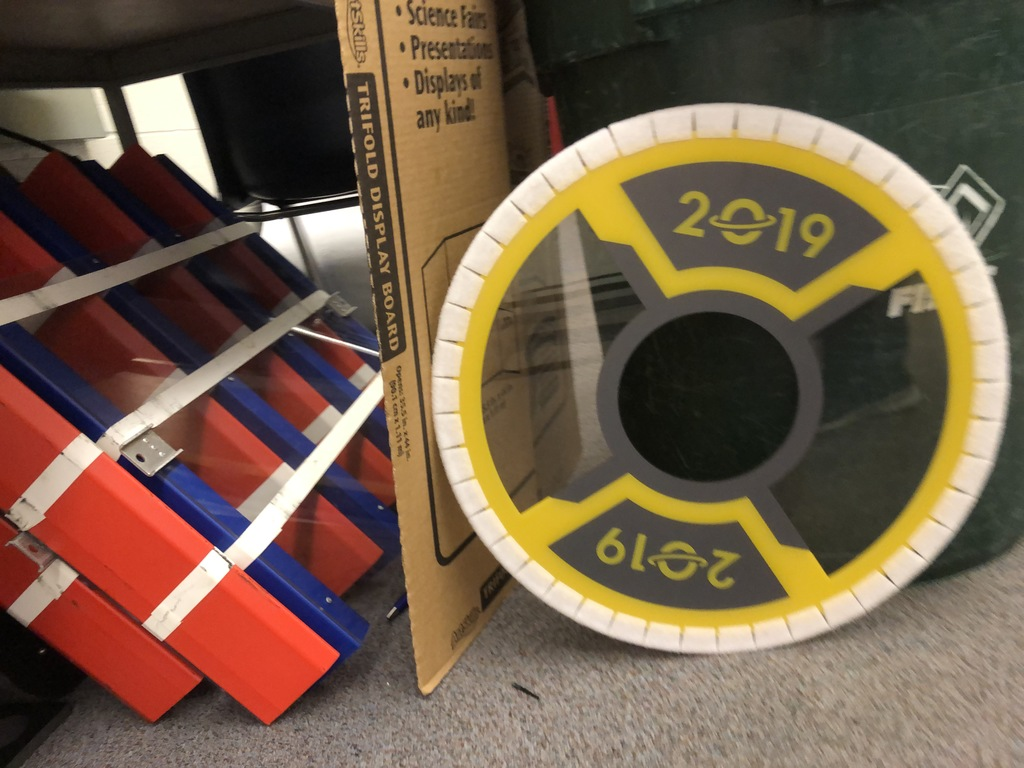hatch_panel: (415, 91, 1024, 660)
